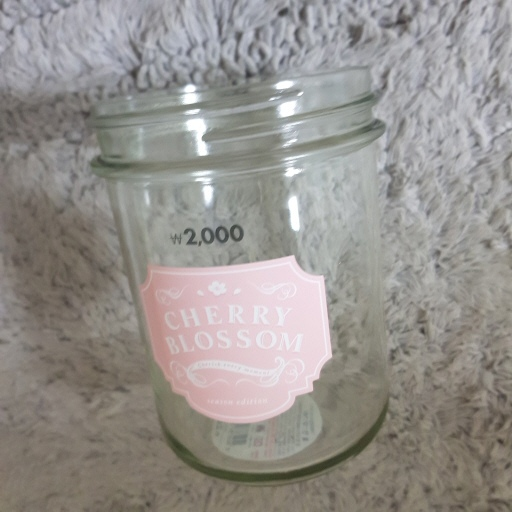Glass_5: (97, 72, 391, 481)
